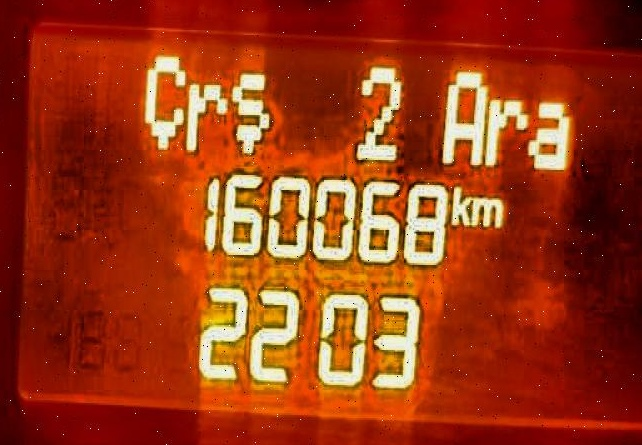0: (312, 285, 371, 390), (309, 169, 354, 263), (266, 169, 310, 263)
1: (191, 171, 221, 258)
2: (351, 58, 407, 166), (247, 281, 302, 390), (194, 278, 249, 386)
3: (370, 288, 422, 393)
6: (356, 176, 402, 265), (221, 168, 266, 258)
8: (402, 178, 447, 269)
X: (139, 48, 186, 158), (440, 61, 486, 170), (525, 95, 575, 175), (230, 63, 269, 156), (186, 76, 229, 155), (488, 95, 528, 170), (470, 186, 505, 230), (446, 175, 469, 230)
